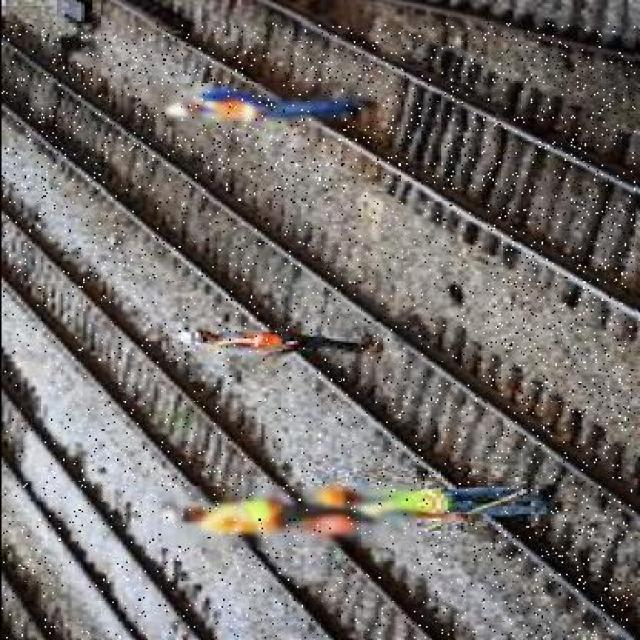danger: (303, 468, 548, 534), (162, 486, 416, 548), (156, 84, 375, 126), (169, 333, 382, 352)
rail: (0, 23, 634, 640), (1, 192, 486, 640), (99, 1, 638, 326)
